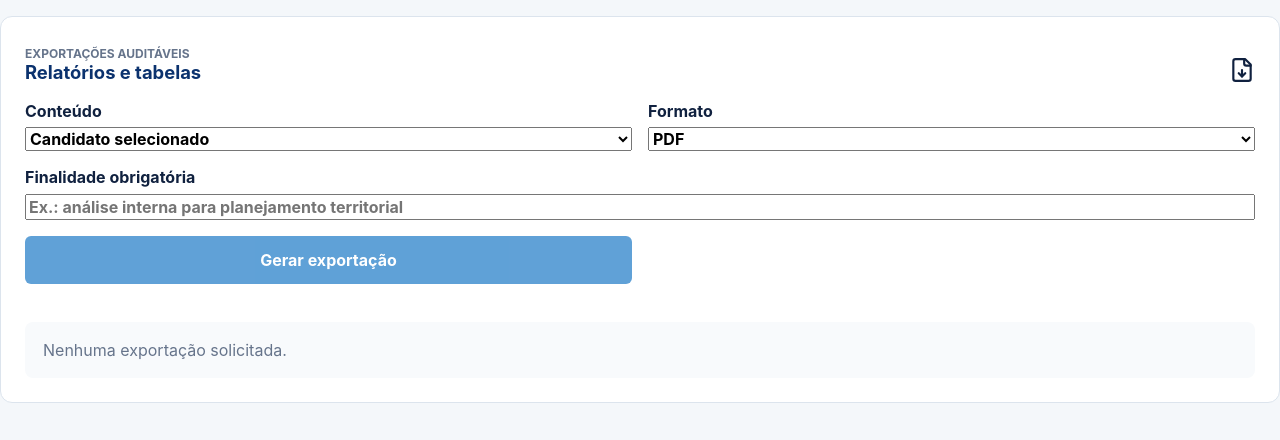
solicita exportacao assincrona com finalidade obrigatoria
Type "Planejamento territorial interno" into the field labelled "Finalidade obrigatória".
click(640, 207); type("Planejamento territorial interno")  # box [25,194,1255,220]
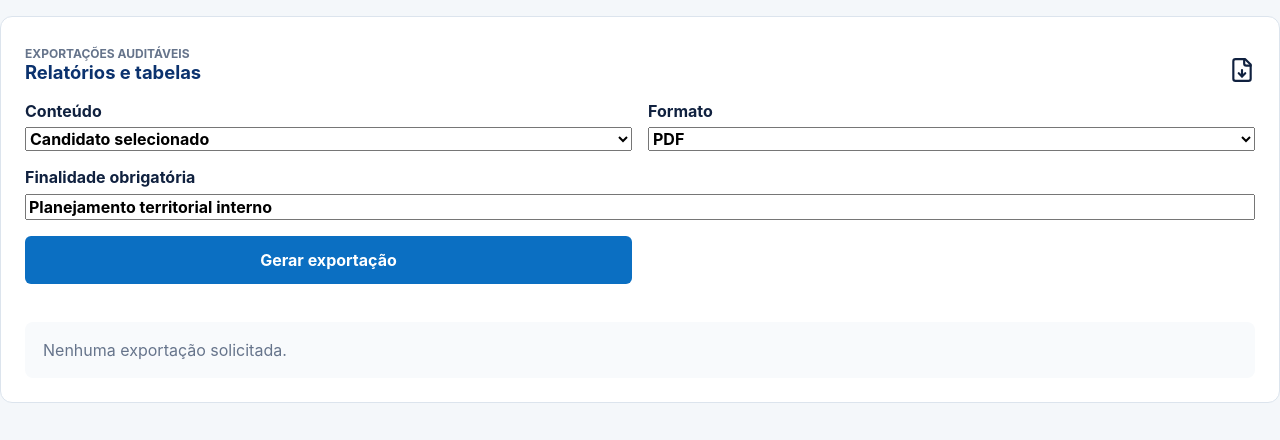
Click the button "Gerar exportação".
click(328, 260)  # box [25,236,632,284]
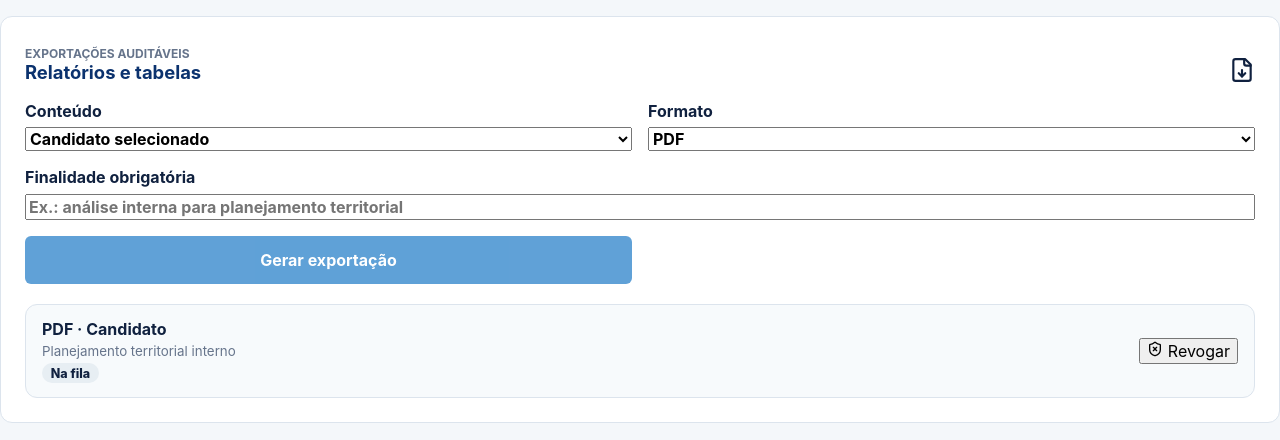
Check: the text "Na fila" is shown, box [42,363,99,383]
